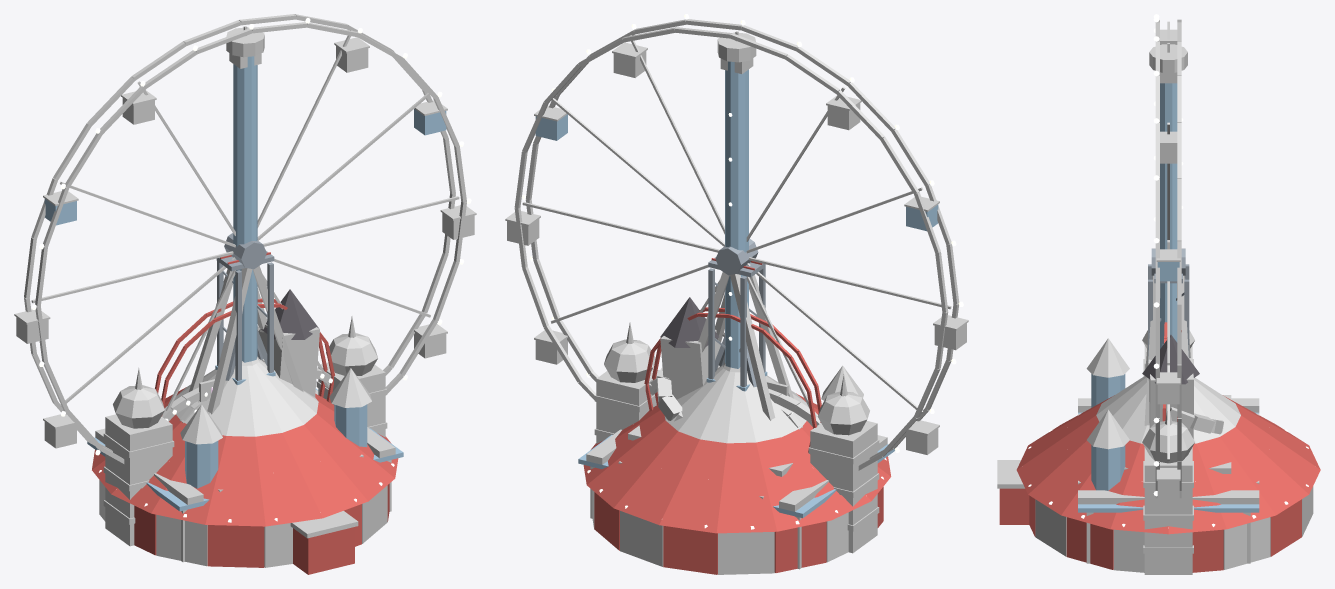
File: carnival_kit.glb
3 renders of one model, left to right at view 1: azimuth 30°, elevation 25°; view 2: azimuth 150°, elevation 25°; view 3: azimuth 270°, elevation 25°, orthographic. The views are drawn at different scales.
Parts seen in each view (by area): view 1: cc_big_top, cc_ferris_wheel, cc_grand_gate, cc_drop_tower, cc_mirror_house, cc_haunted_front, cc_bumper_hall, cc_coaster_support_tall, cc_coaster_loop; view 2: cc_big_top, cc_ferris_wheel, cc_grand_gate, cc_drop_tower, cc_haunted_front, cc_bumper_hall, cc_coaster_loop, cc_coaster_support_tall, cc_mirror_house, cc_water_slide; view 3: cc_big_top, cc_ferris_wheel, cc_grand_gate, cc_mirror_house, cc_drop_tower, cc_bumper_hall, cc_haunted_front, cc_coaster_support_tall, cc_water_slide.
Boxes of the visible parts, box(x1,y1,x2,y2) form: cc_big_top: box(92, 326, 398, 574); cc_ferris_wheel: box(14, 14, 476, 463); cc_grand_gate: box(103, 316, 387, 546); cc_drop_tower: box(226, 27, 264, 362); cc_mirror_house: box(180, 368, 371, 488); cc_haunted_front: box(258, 289, 319, 397); cc_bumper_hall: box(87, 388, 403, 562); cc_coaster_support_tall: box(216, 251, 274, 380); cc_coaster_loop: box(155, 298, 334, 416); cc_big_top: box(583, 332, 891, 574); cc_ferris_wheel: box(505, 14, 968, 470); cc_grand_gate: box(594, 322, 879, 553); cc_drop_tower: box(717, 32, 756, 368); cc_haunted_front: box(660, 297, 721, 399); cc_bumper_hall: box(578, 429, 894, 569); cc_coaster_loop: box(644, 307, 821, 452); cc_coaster_support_tall: box(708, 256, 765, 387); cc_mirror_house: box(628, 365, 863, 476); cc_water_slide: box(657, 365, 767, 421); cc_big_top: box(997, 376, 1320, 572); cc_ferris_wheel: box(1144, 14, 1190, 499); cc_grand_gate: box(1142, 330, 1194, 574); cc_mirror_house: box(1086, 338, 1231, 490); cc_drop_tower: box(1149, 44, 1187, 348); cc_bumper_hall: box(1078, 398, 1259, 563); cc_haunted_front: box(1142, 335, 1199, 438); cc_coaster_support_tall: box(1148, 264, 1189, 361); cc_water_slide: box(1170, 407, 1223, 434).
Bounding box in the file's own units: 42.2 × 47.65 × 26.8.
